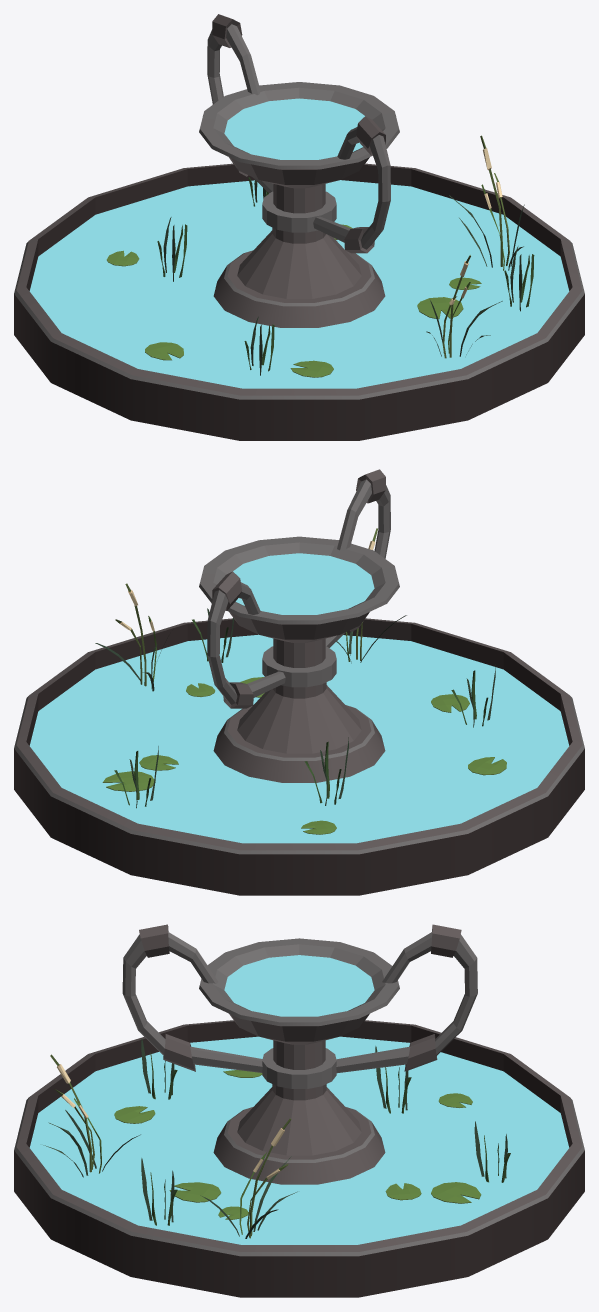
The picture shows the model from 3 angles, top to bottom: view 1: azimuth 30°, elevation 25°; view 2: azimuth 150°, elevation 25°; view 3: azimuth 270°, elevation 25°; orthographic projection.
Visible parts, largest first — view 1: Fountain02.004, ShoreGrass_01.012, ShoreGrass_01.013, LilyPad_01.035, Grass_05.023, Grass_05.021, Grass_05.024, LilyPad_01.033, LilyPad_01.039; view 2: Fountain02.004, ShoreGrass_01.012, LilyPad_01.037, Grass_05.021, LilyPad_01.039; view 3: Fountain02.004, ShoreGrass_01.012, ShoreGrass_01.013, LilyPad_01.037, LilyPad_01.035, Grass_05.023, LilyPad_01.033, Grass_05.022, Grass_05.021, Grass_05.024.
Boxes of the visible parts, bbox=[...] form: Fountain02.004: bbox=[14, 14, 584, 440]; ShoreGrass_01.012: bbox=[449, 135, 524, 270]; ShoreGrass_01.013: bbox=[426, 255, 502, 358]; LilyPad_01.035: bbox=[417, 297, 463, 319]; Grass_05.023: bbox=[504, 246, 534, 311]; Grass_05.021: bbox=[157, 217, 187, 281]; Grass_05.024: bbox=[244, 316, 274, 375]; LilyPad_01.033: bbox=[290, 360, 333, 377]; LilyPad_01.039: bbox=[145, 342, 183, 360]; Fountain02.004: bbox=[14, 469, 584, 895]; ShoreGrass_01.012: bbox=[95, 583, 168, 691]; LilyPad_01.037: bbox=[102, 771, 155, 791]; Grass_05.021: bbox=[304, 737, 348, 805]; LilyPad_01.039: bbox=[468, 757, 506, 775]; Fountain02.004: bbox=[14, 924, 584, 1297]; ShoreGrass_01.012: bbox=[200, 1118, 297, 1238]; ShoreGrass_01.013: bbox=[43, 1054, 140, 1177]; LilyPad_01.037: bbox=[431, 1182, 481, 1203]; LilyPad_01.035: bbox=[169, 1182, 221, 1202]; Grass_05.023: bbox=[141, 1158, 177, 1225]; LilyPad_01.033: bbox=[114, 1106, 155, 1123]; Grass_05.022: bbox=[474, 1121, 510, 1182]; Grass_05.021: bbox=[375, 1046, 411, 1113]; Grass_05.024: bbox=[141, 1038, 177, 1099].
Size of what is drawn, in the model's own units: 5.44 by 2.69 by 5.47.
Materials: 1 (1 with a texture image).
